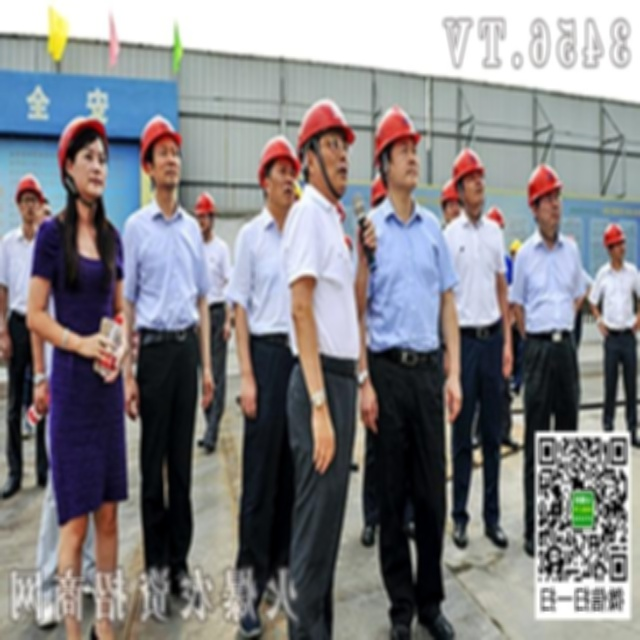Con_Casco: (374, 106, 420, 199), (137, 115, 184, 196), (527, 165, 562, 238), (453, 148, 487, 217)
